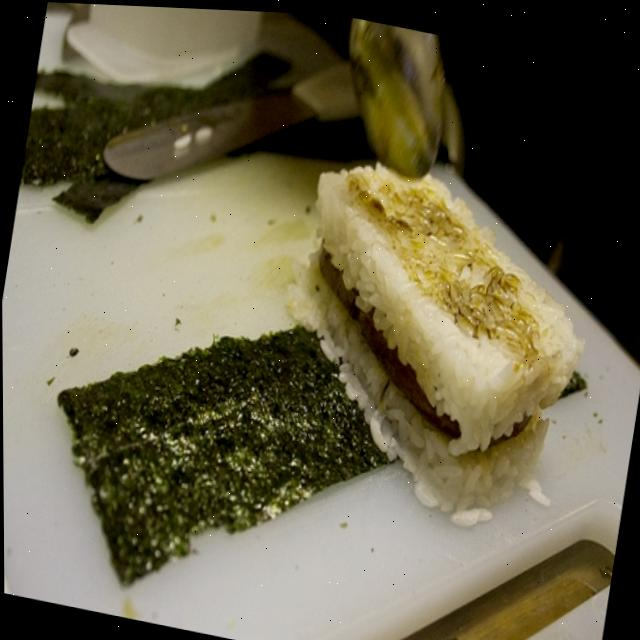寿司卷物: (55, 127, 605, 636)
